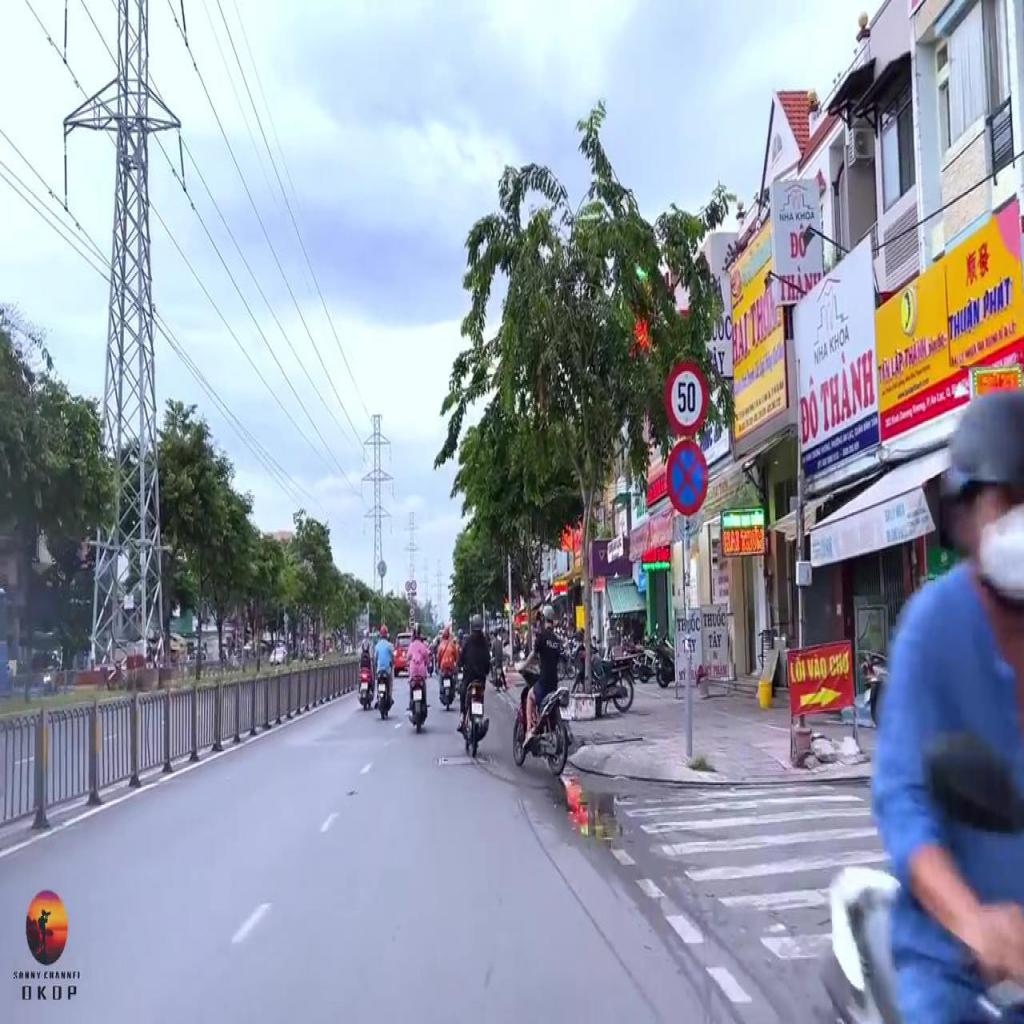cam_dung_xe_va_do_xe: (666, 441, 708, 518)
toc_do_toi_da_50: (666, 363, 710, 438)
